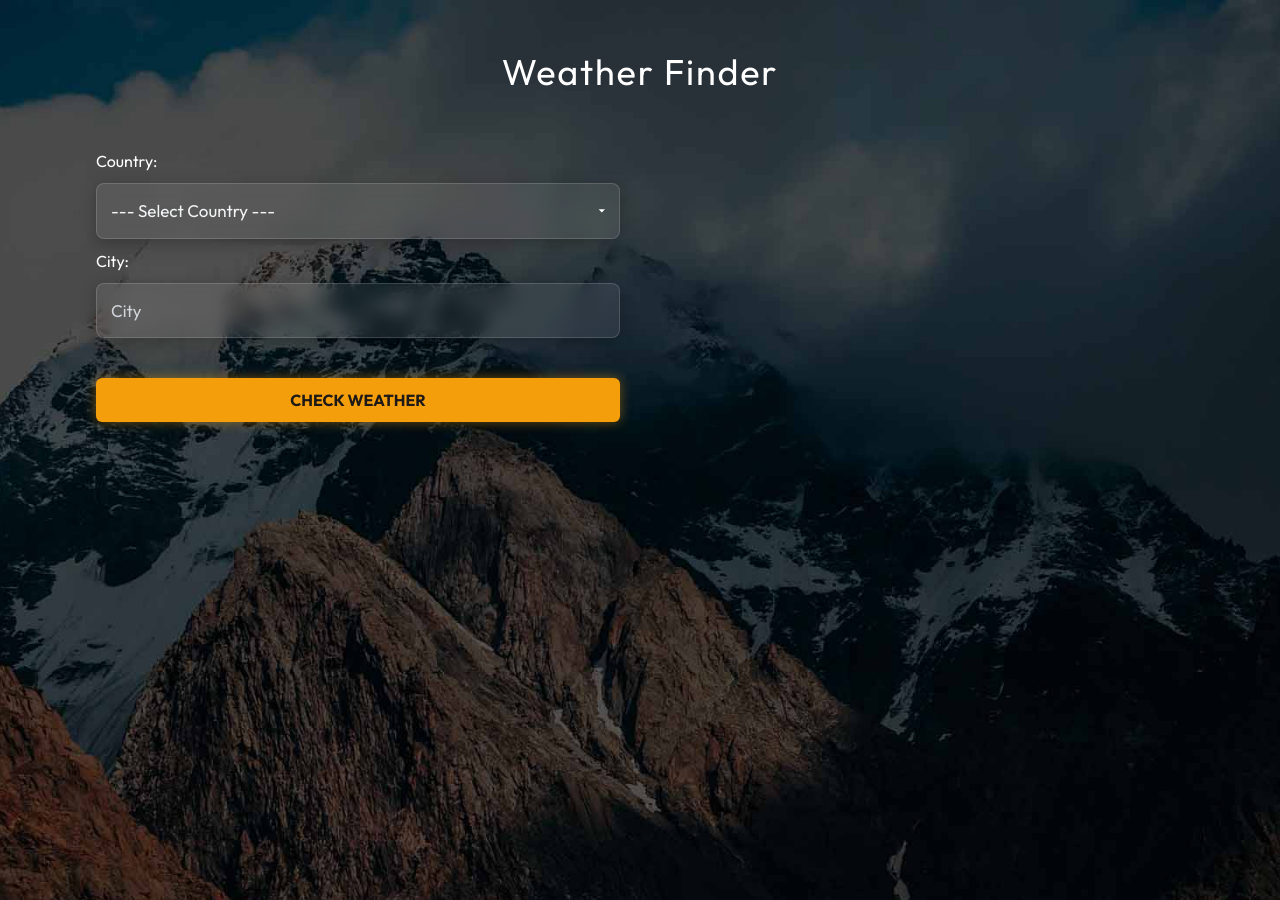
Test: App › shows an announced alert when the city is not found
The width and height of the screenshot is (1280, 900).
Select "Colombia" in the dropdown labelled "Country:": (358, 211) [96,183,620,238]
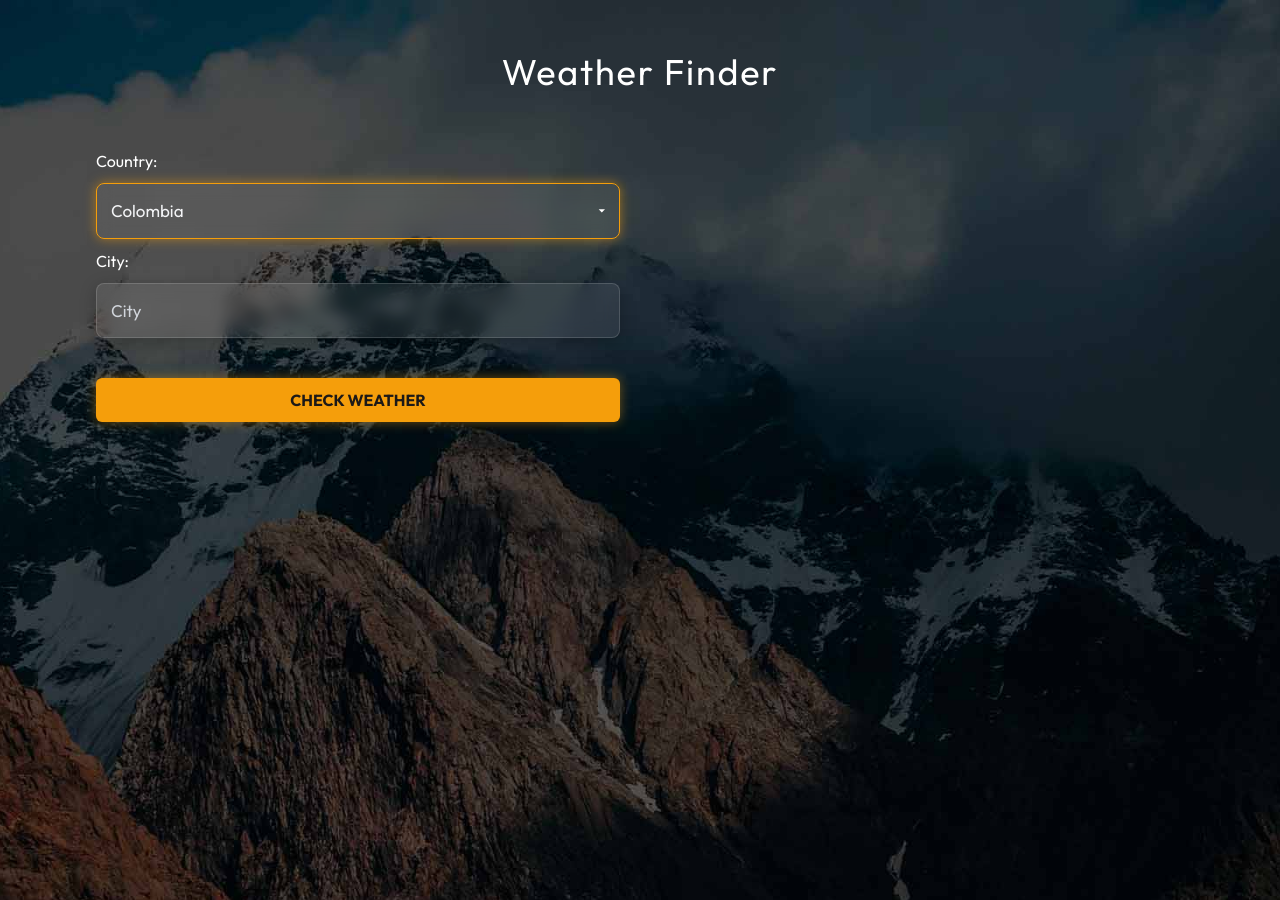
In the field labelled "City:": (358, 310) [96,282,620,338], type "Nowhere"
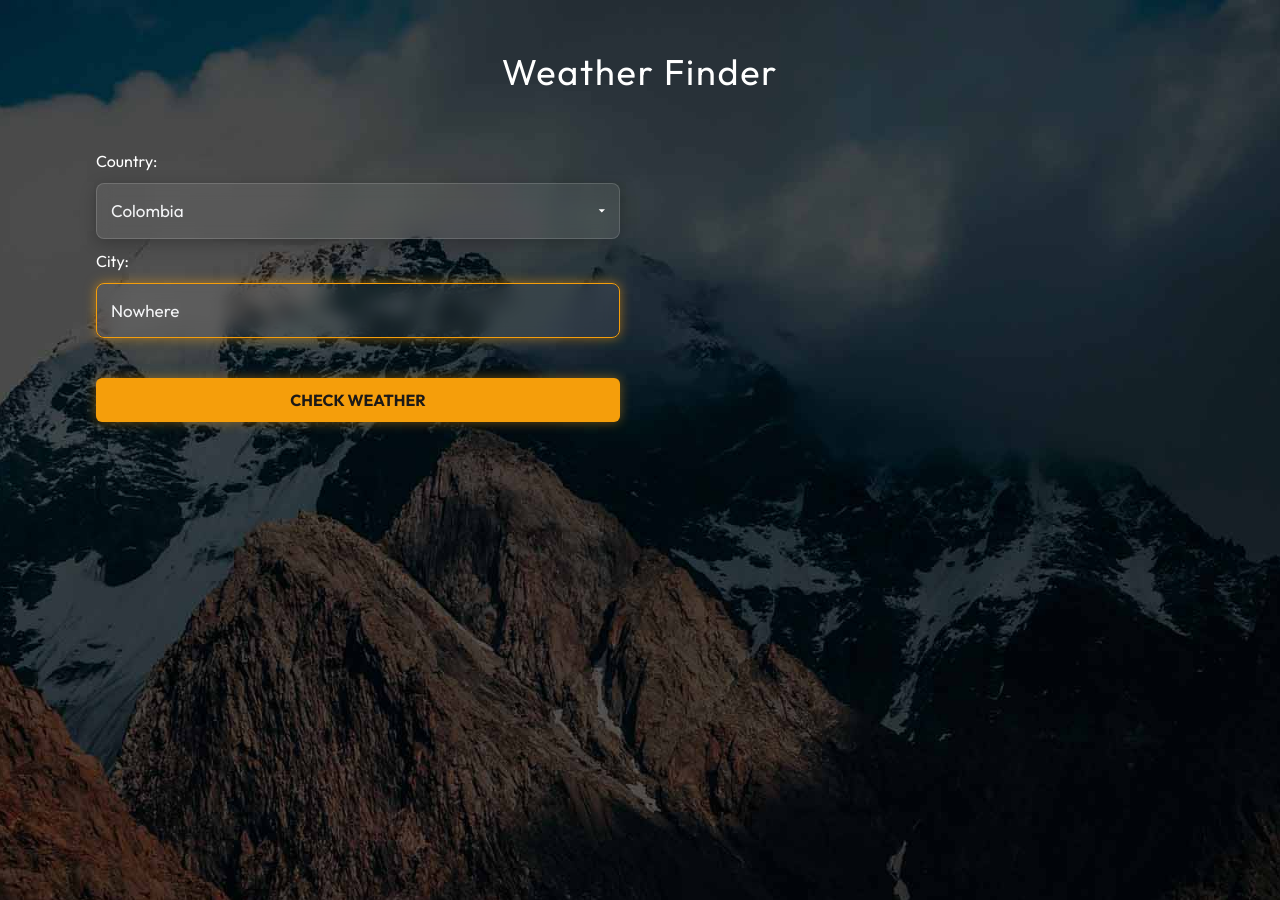
Click the button "Check weather": (358, 400) [96,378,620,422]
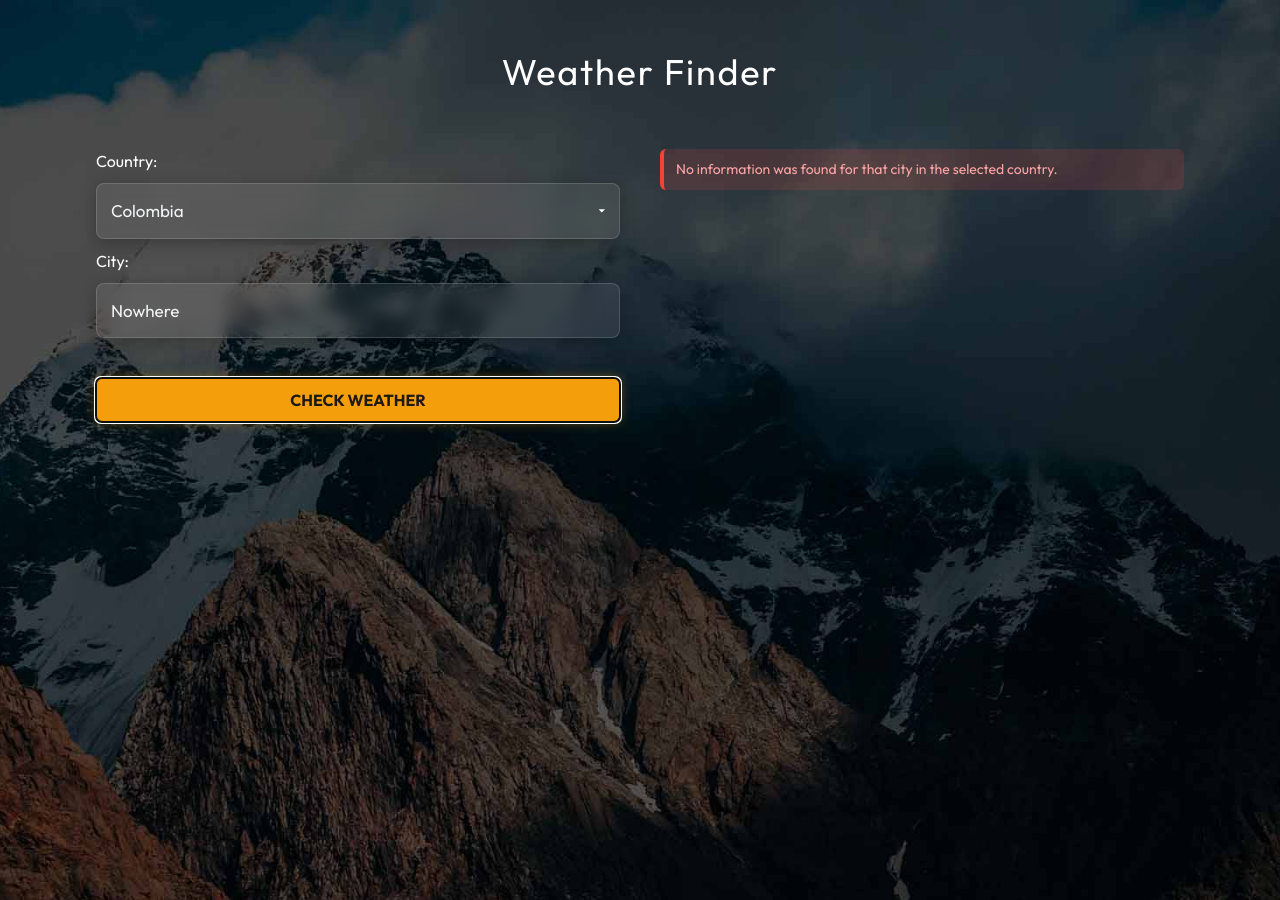
Check: the message shows "No information was found", box [676,160,1058,178]
